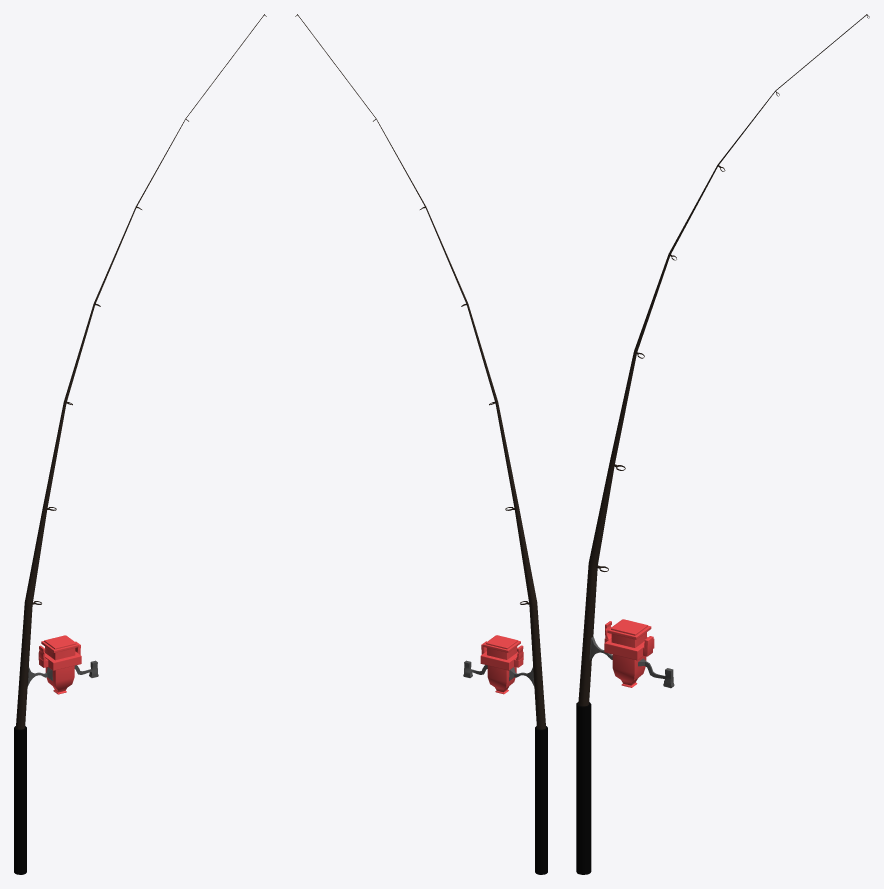
Rendered from 낚시대.fbx.
The picture shows the model from 3 angles, left to right: view 1: azimuth 30°, elevation 25°; view 2: azimuth 150°, elevation 25°; view 3: azimuth 330°, elevation 25°; orthographic projection. The views are drawn at different scales.
Parts seen in each view (by area): view 1: Box001, Object001, Box002; view 2: Box001, Object001, Box002; view 3: Box001, Object001, Box002, Object002.
Boxes of the visible parts, x1,y1,x2,y2 form: Box001: (16, 14, 266, 729); Object001: (14, 726, 26, 874); Box002: (38, 635, 81, 694); Box001: (295, 14, 545, 729); Object001: (535, 726, 547, 874); Box002: (480, 635, 523, 694); Box001: (578, 14, 869, 706); Object001: (576, 702, 591, 874); Box002: (604, 619, 654, 687); Object002: (589, 636, 674, 688).
Bounding box in the file's own units: 69.95 × 212 × 7.07.
